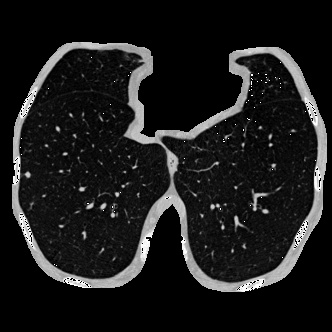PN: (24, 171, 30, 177)
